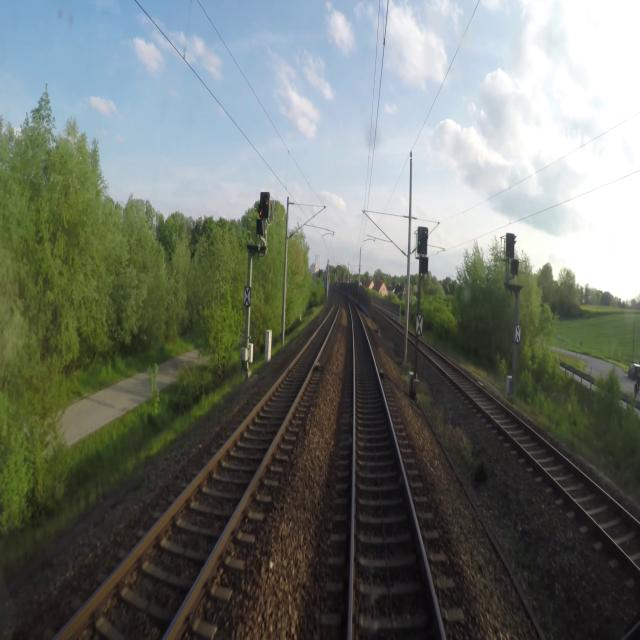rail-track: (56, 290, 339, 639), (418, 340, 640, 564), (347, 298, 442, 639), (407, 332, 415, 341)
